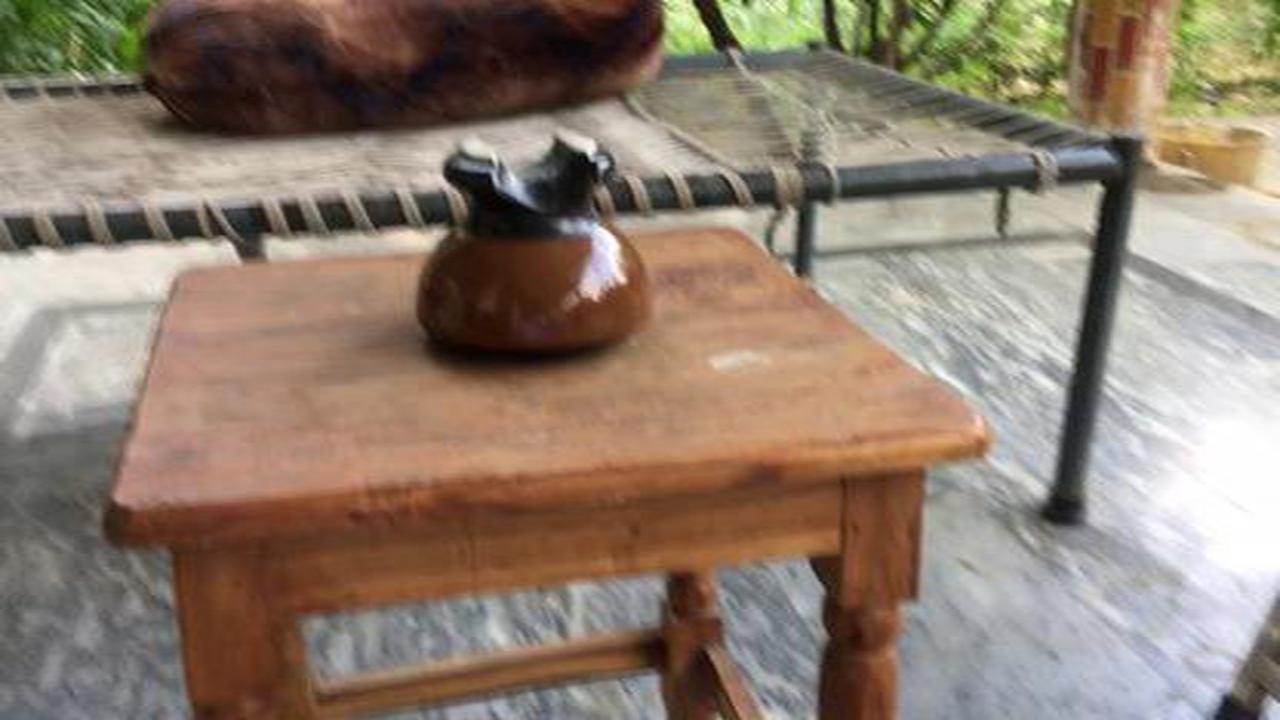insulator_pin: (379, 125, 699, 381)
